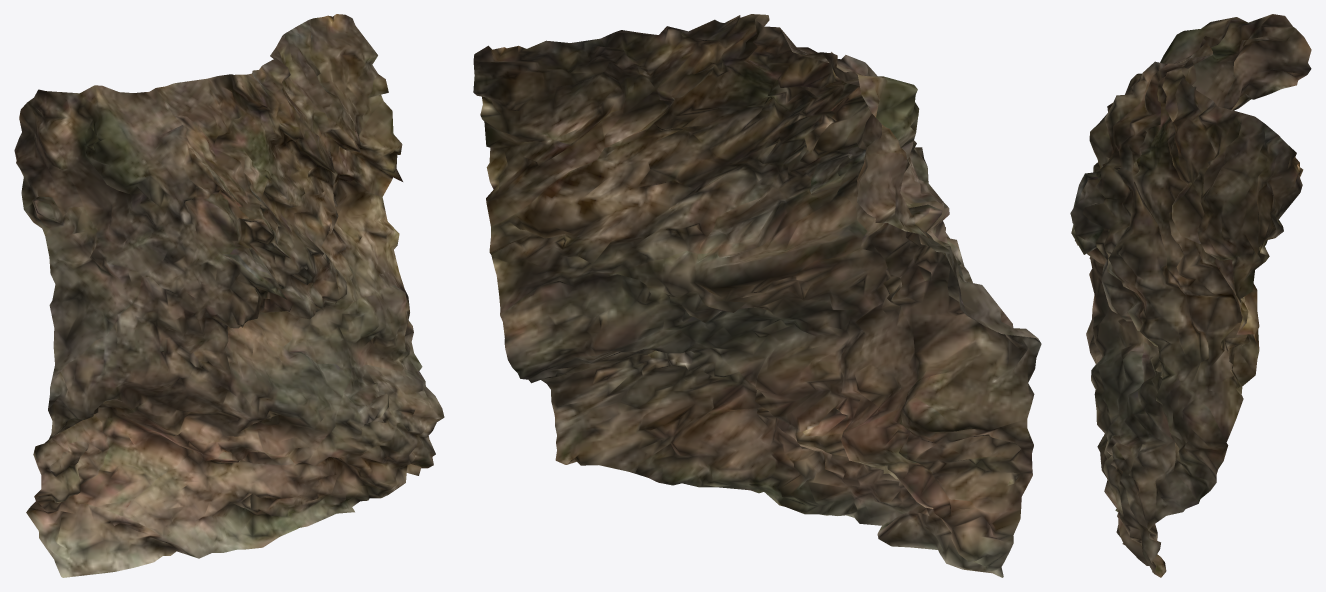
The model's file is mountainside_lod1.glb.
The picture shows the model from 3 angles, left to right: view 1: azimuth 30°, elevation 25°; view 2: azimuth 150°, elevation 25°; view 3: azimuth 270°, elevation 25°; orthographic projection. The views are drawn at different scales.
Visible parts, largest first — view 1: mountainside; view 2: mountainside; view 3: mountainside.
Boxes of the visible parts, <box> form: mountainside: <box>14,14,444,577</box>; mountainside: <box>473,14,1041,577</box>; mountainside: <box>1070,14,1311,577</box>.
Bounding box in the file's own units: 10.19 × 10.52 × 5.25.
Materials: 1 (1 with a texture image).
